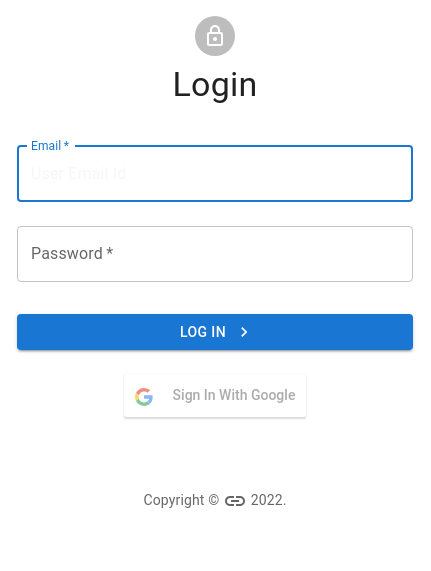
Should test Login page › Should be show invalid email if the email is not valid
Expected: the text "Enter a valid email" is not shown
// getting the email field for testing purposes
Type "shradhasuman.com" into the field labelled "Email". click: [215, 174]
box: [17, 146, 413, 202]
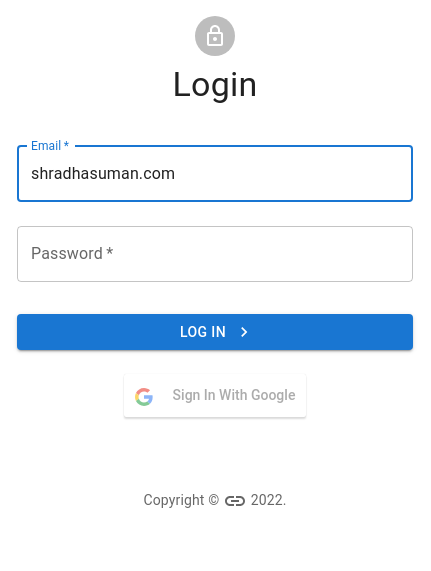
Click the button "Log in". click: [215, 332]
box: [17, 314, 413, 350]
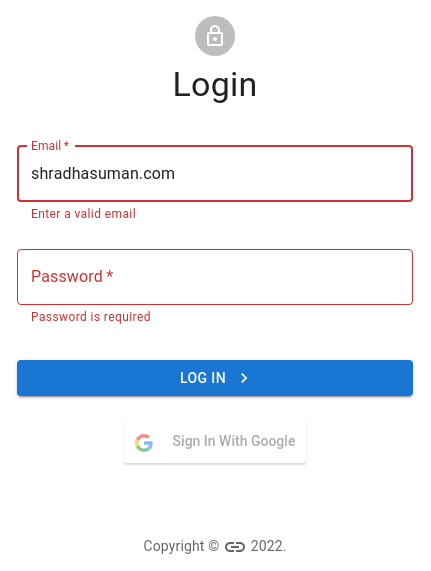
Now the text "Enter a valid email" is shown, box [31, 207, 136, 221]
